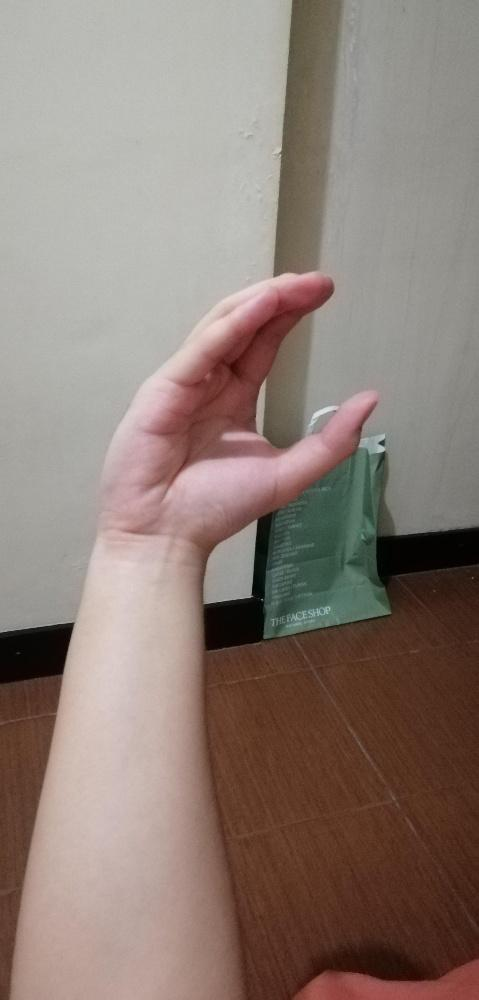c: (98, 270, 380, 537)
